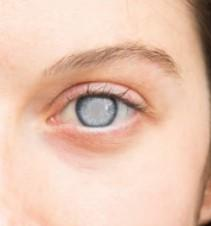eye: (73, 93, 120, 129)
